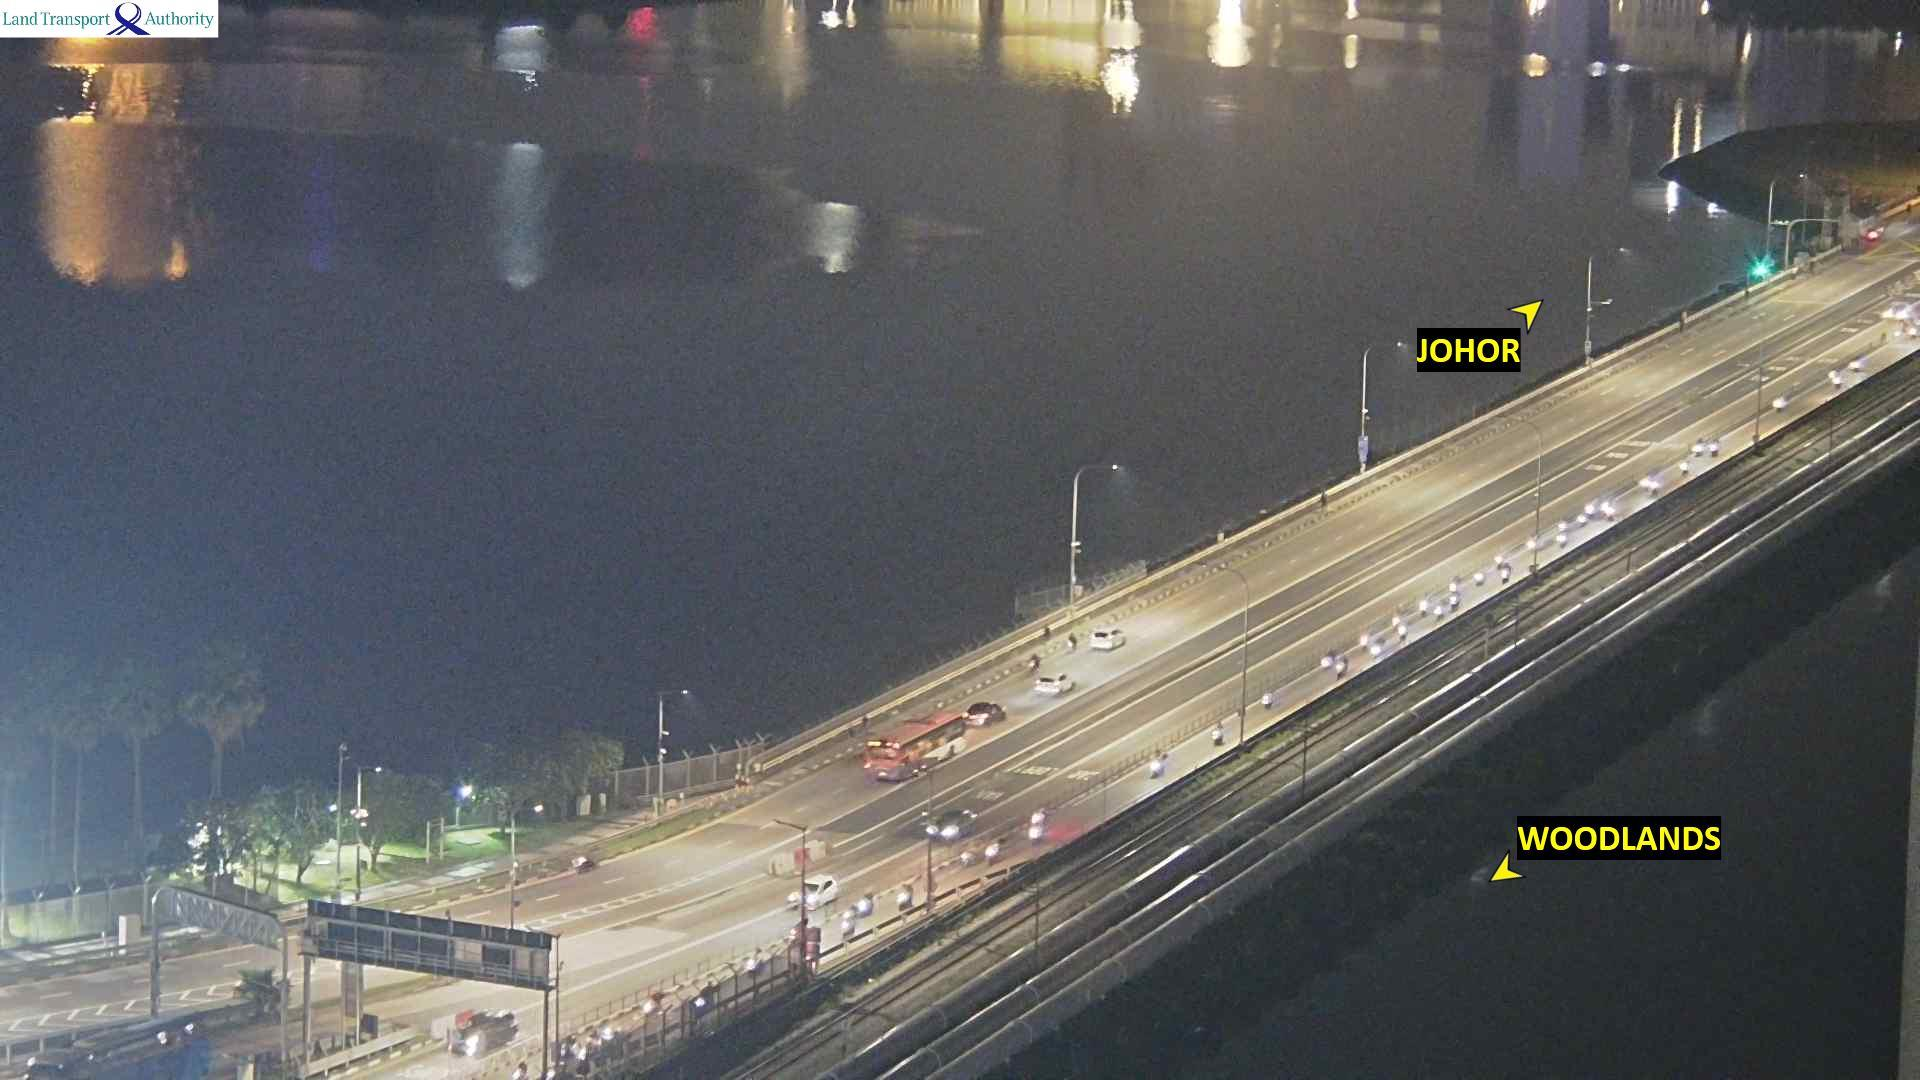vehicle-causeway-johor: (871, 712, 960, 780), (963, 702, 1005, 729), (1083, 627, 1124, 653), (1036, 672, 1077, 694), (1033, 649, 1054, 671), (572, 852, 594, 871), (1070, 634, 1077, 651)
vehicle-causeway-singapore: (926, 813, 975, 843), (797, 878, 841, 910), (1887, 296, 1919, 323), (1032, 809, 1056, 842), (979, 839, 1001, 861), (1149, 749, 1165, 777), (1495, 562, 1509, 590), (1586, 494, 1601, 519), (1552, 532, 1572, 550), (1690, 436, 1707, 457), (1639, 475, 1656, 496), (1469, 571, 1486, 590), (1430, 607, 1444, 630), (1850, 351, 1866, 370), (1827, 366, 1839, 391), (1709, 438, 1723, 458), (1602, 502, 1618, 519), (1370, 644, 1384, 662), (1262, 691, 1278, 706), (1321, 652, 1333, 671), (1773, 391, 1785, 410), (841, 923, 856, 938), (1335, 662, 1349, 677), (1212, 722, 1221, 744), (1448, 595, 1462, 609), (899, 890, 908, 907), (859, 894, 866, 914), (1419, 600, 1427, 617), (1681, 463, 1690, 478), (842, 908, 852, 920), (1450, 578, 1459, 591), (1357, 632, 1366, 644), (1400, 629, 1407, 643), (1392, 616, 1398, 627)
